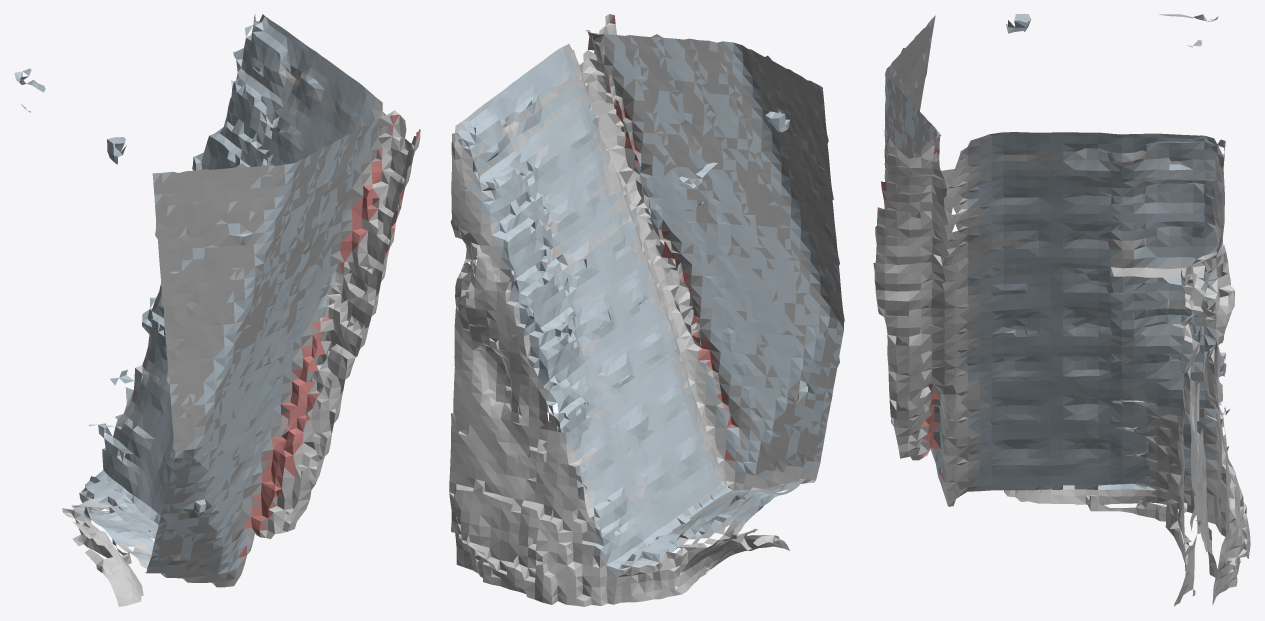
File: B0-뜬면-1__lt_dynnow_ALS_s0__after.glb
The picture shows the model from 3 angles, left to right: view 1: azimuth 30°, elevation 25°; view 2: azimuth 150°, elevation 25°; view 3: azimuth 270°, elevation 25°; orthographic projection. The views are drawn at different scales.
Bounding box in the file's own units: 19.96 × 35.45 × 25.51.
